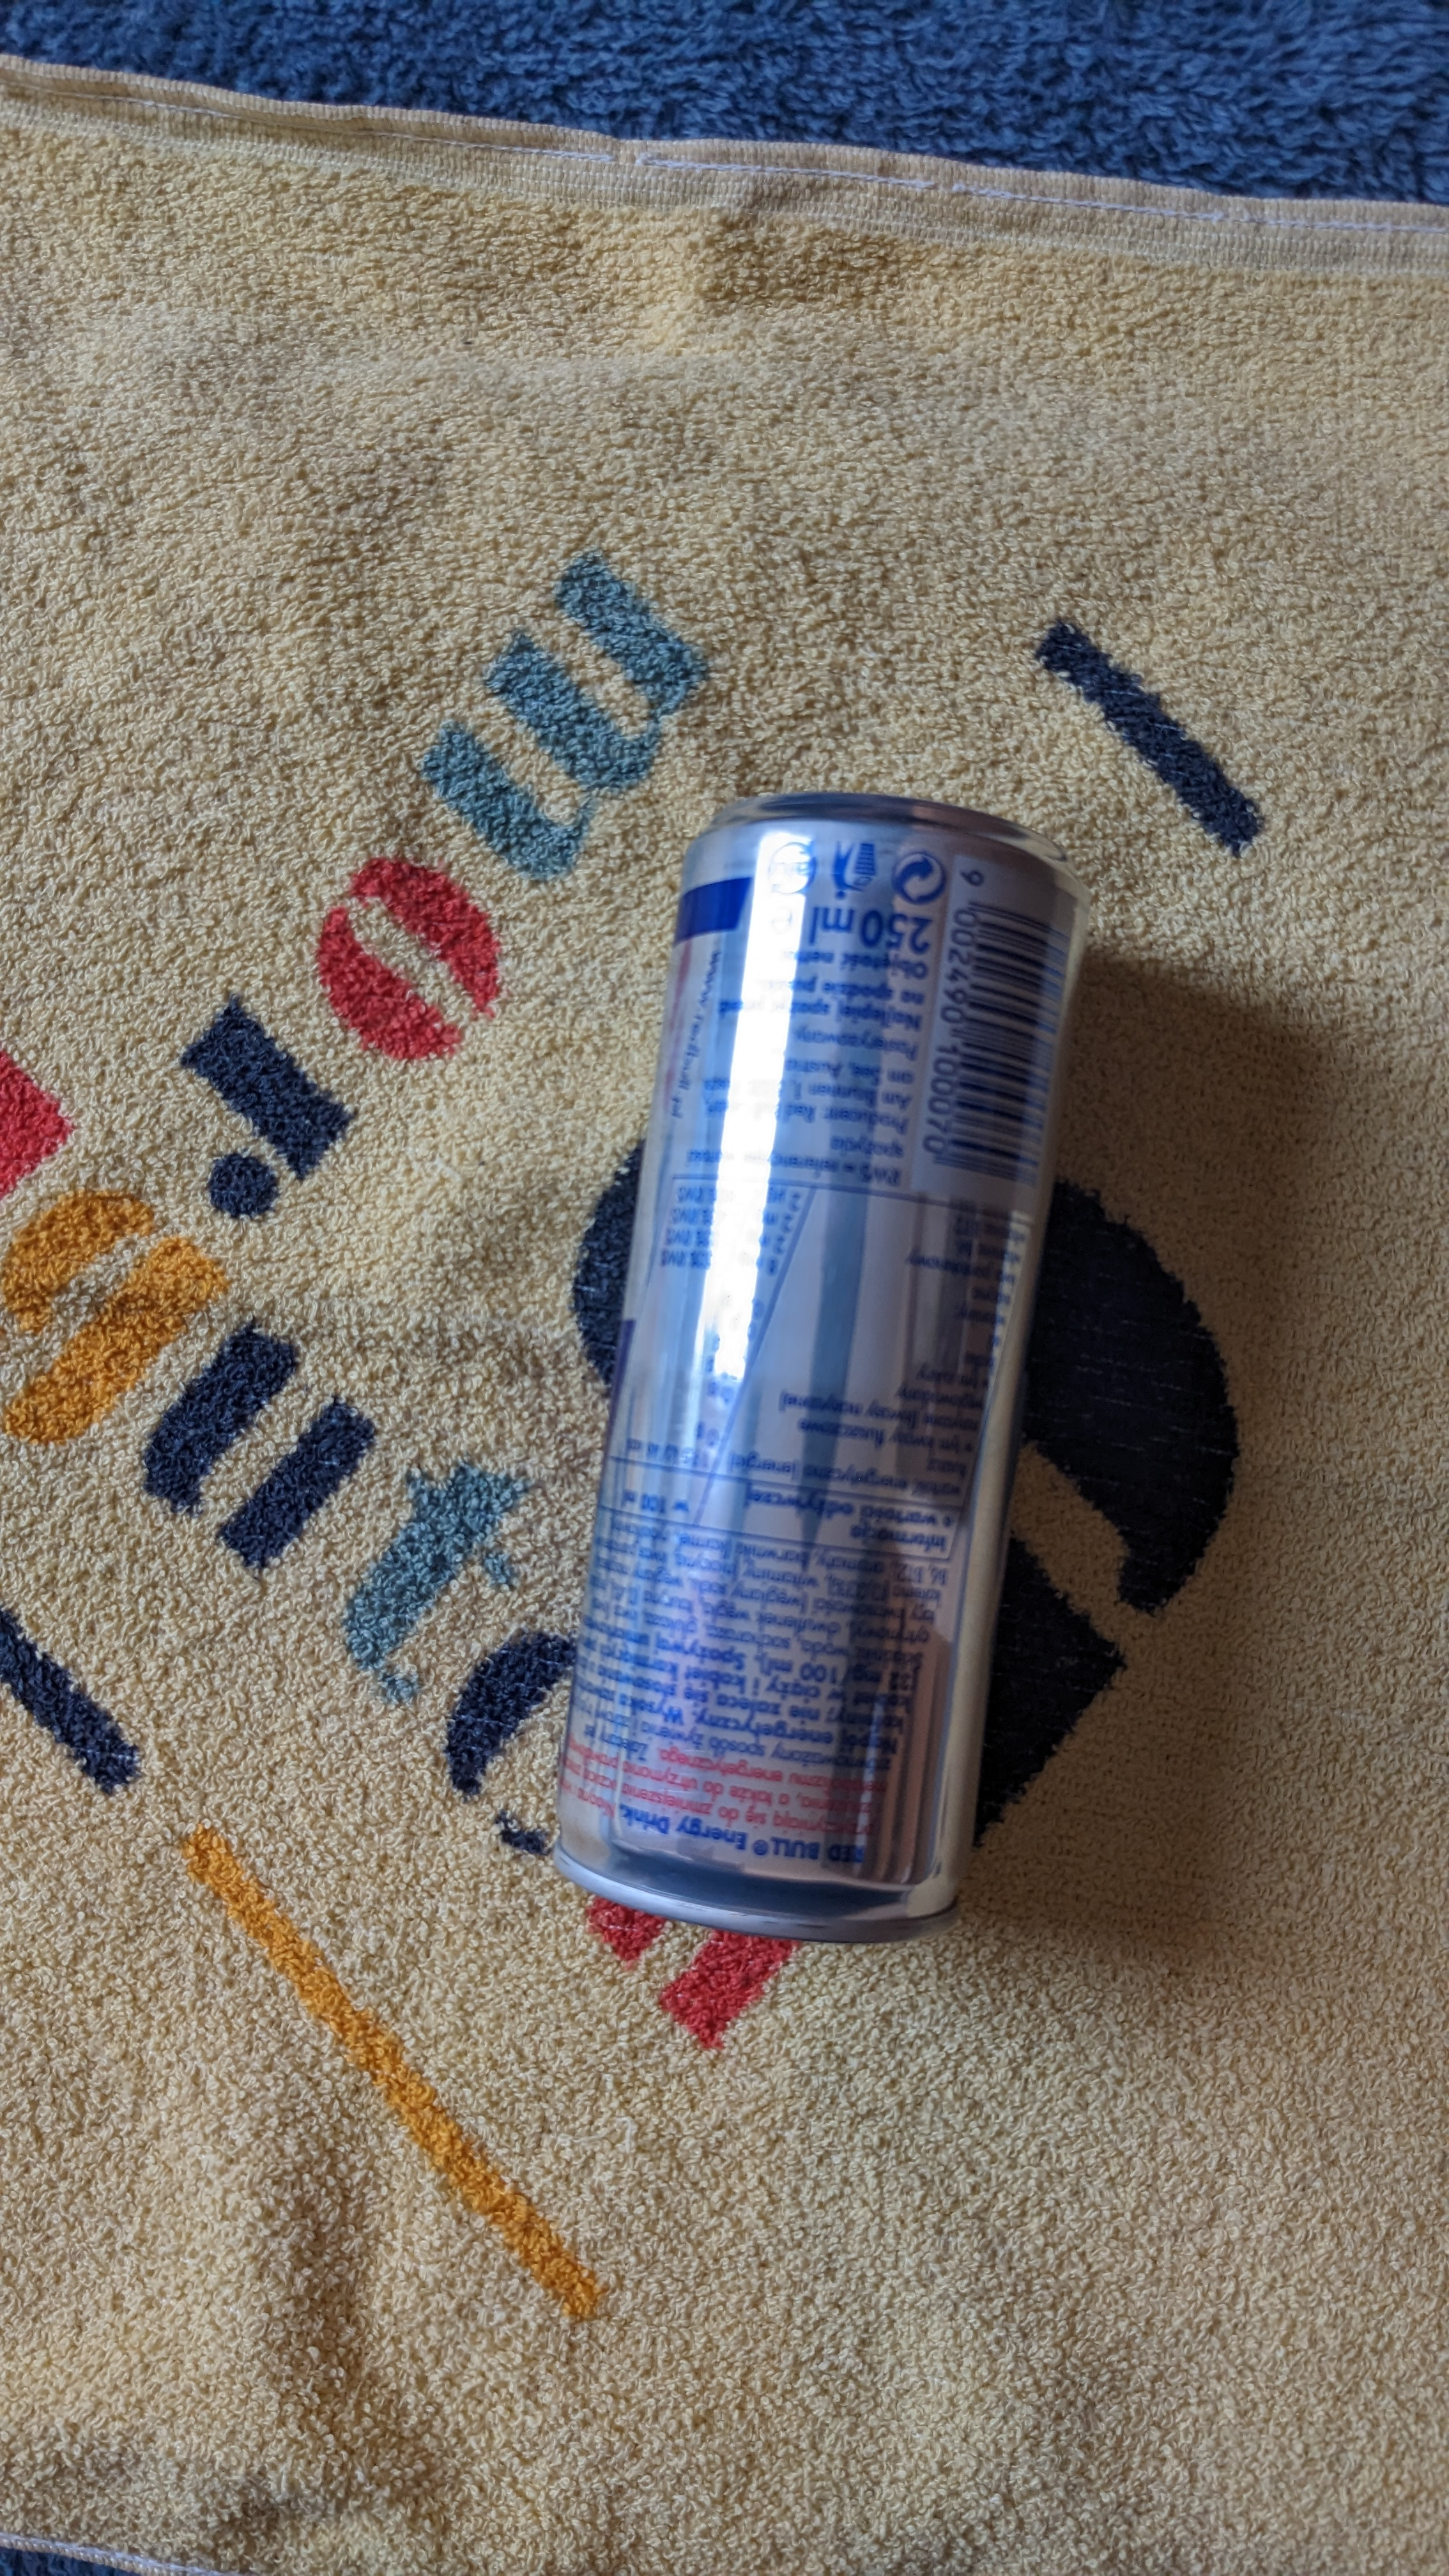red-bull: (591, 763, 1113, 1982)
